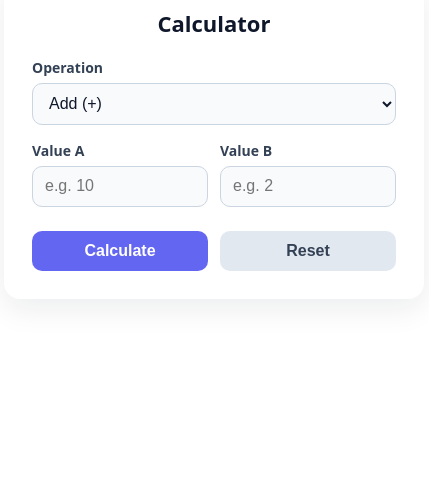
<Calculator /> › Clear empties the history, removes the section, and returns focus to Calculate
The image size is (429, 501).
In the number field labelled "Value A": [120, 186] box [32,166,208,207], type "40"
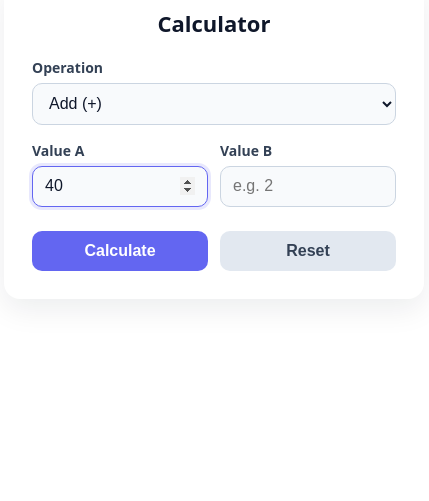
In the number field labelled "Value B": [308, 186] box [220,166,396,207], type "2"
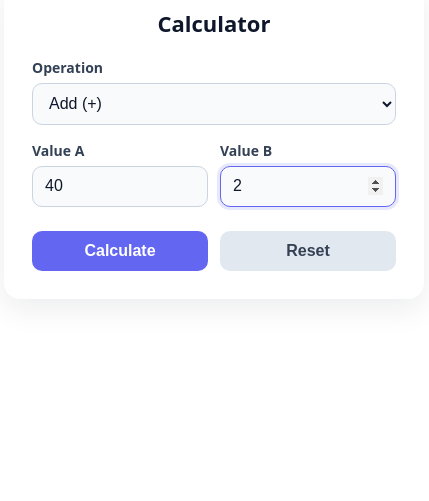
Click the button "Calculate": [120, 251] box [32,231,208,271]
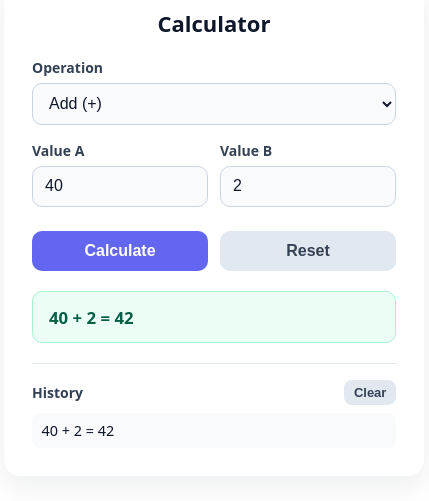
Result: the list is shown at [32,413,396,448]
Click the button with aria-label "clear history": [370, 392] box [344,380,396,405]
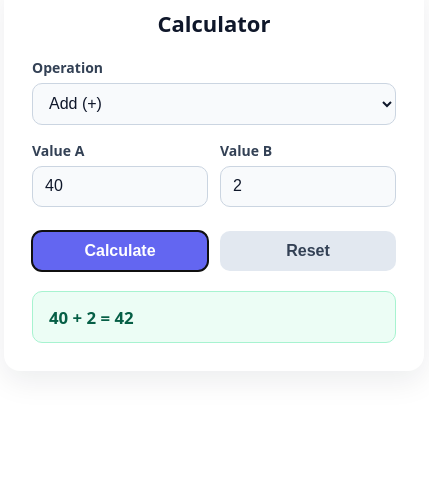
Result: the list is gone
